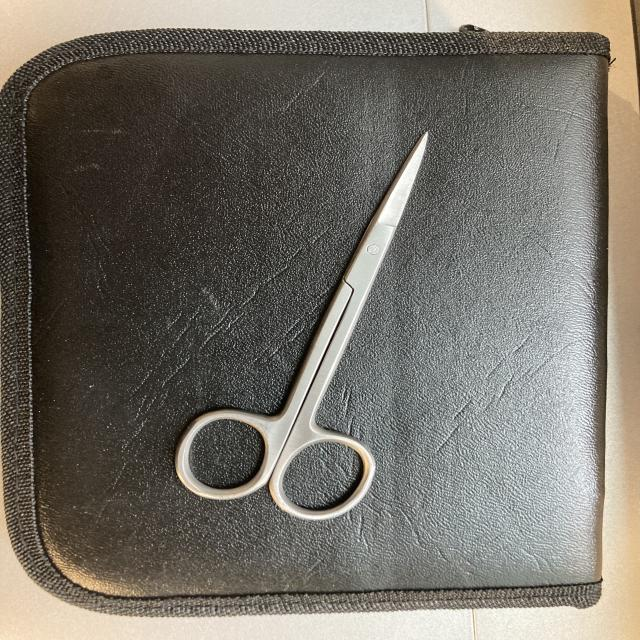scissor: (164, 121, 448, 542)
